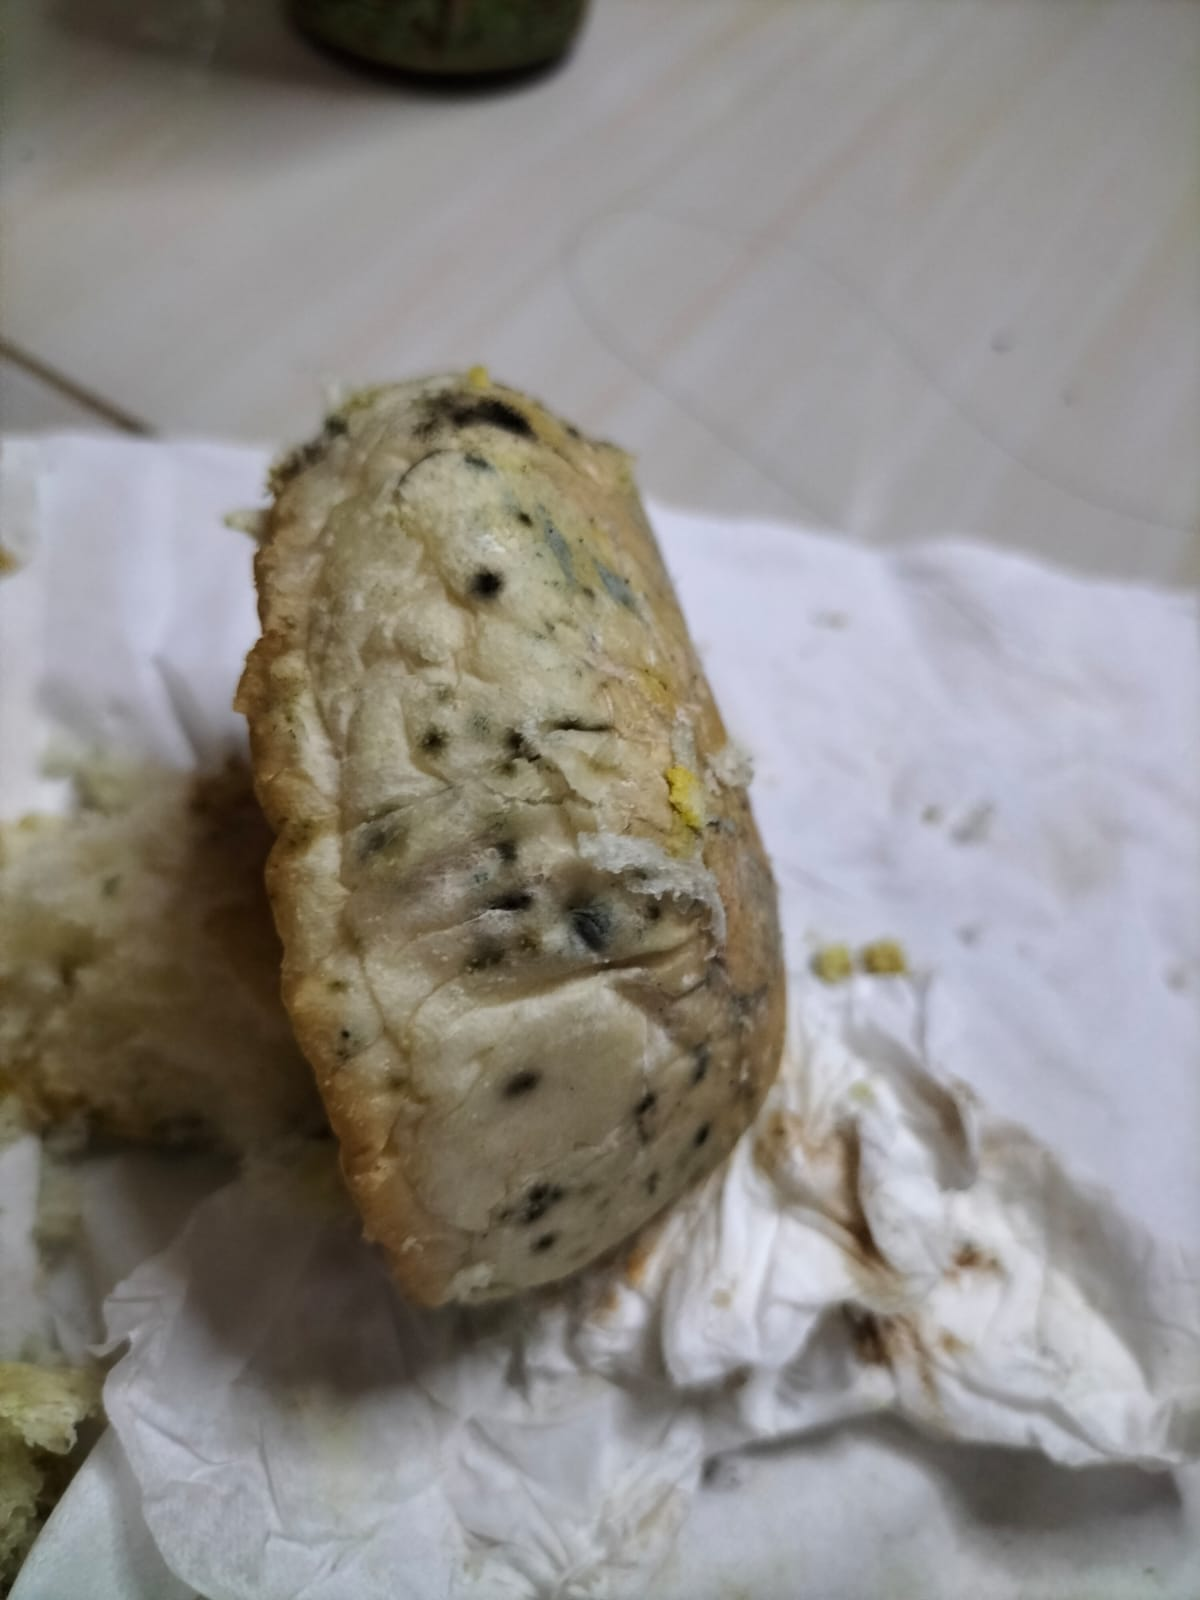mold_bread: (453, 814, 621, 986), (274, 378, 558, 467), (624, 1048, 735, 1199), (493, 1169, 582, 1261), (551, 548, 642, 624), (342, 803, 412, 884), (626, 855, 692, 934), (456, 554, 532, 620), (492, 1060, 555, 1123), (483, 724, 542, 786), (406, 712, 461, 774), (325, 1012, 366, 1071), (497, 501, 556, 532)
